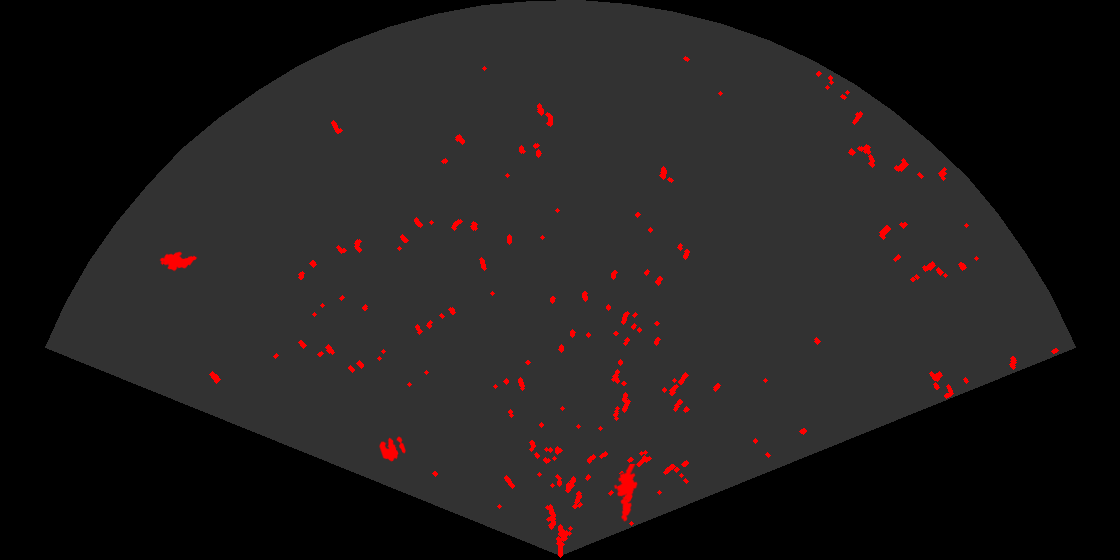AUV: (158, 250, 199, 273)
ball: (378, 435, 407, 463)
frogman: (612, 464, 639, 523)
